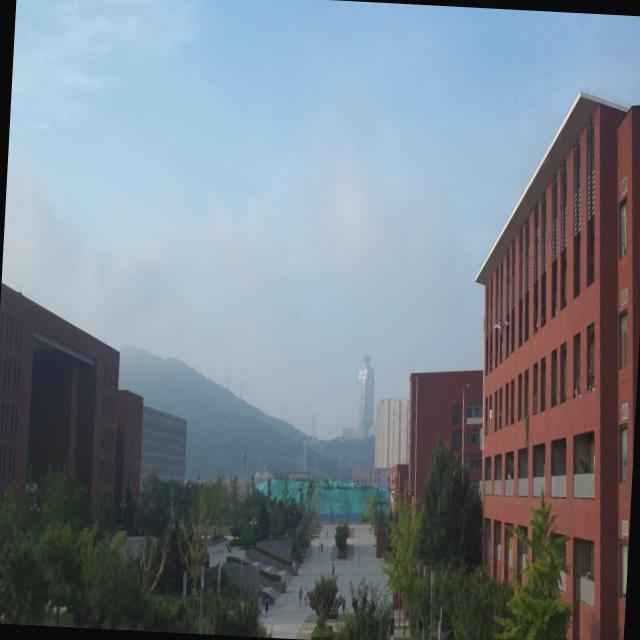drone: (493, 313, 510, 341)
